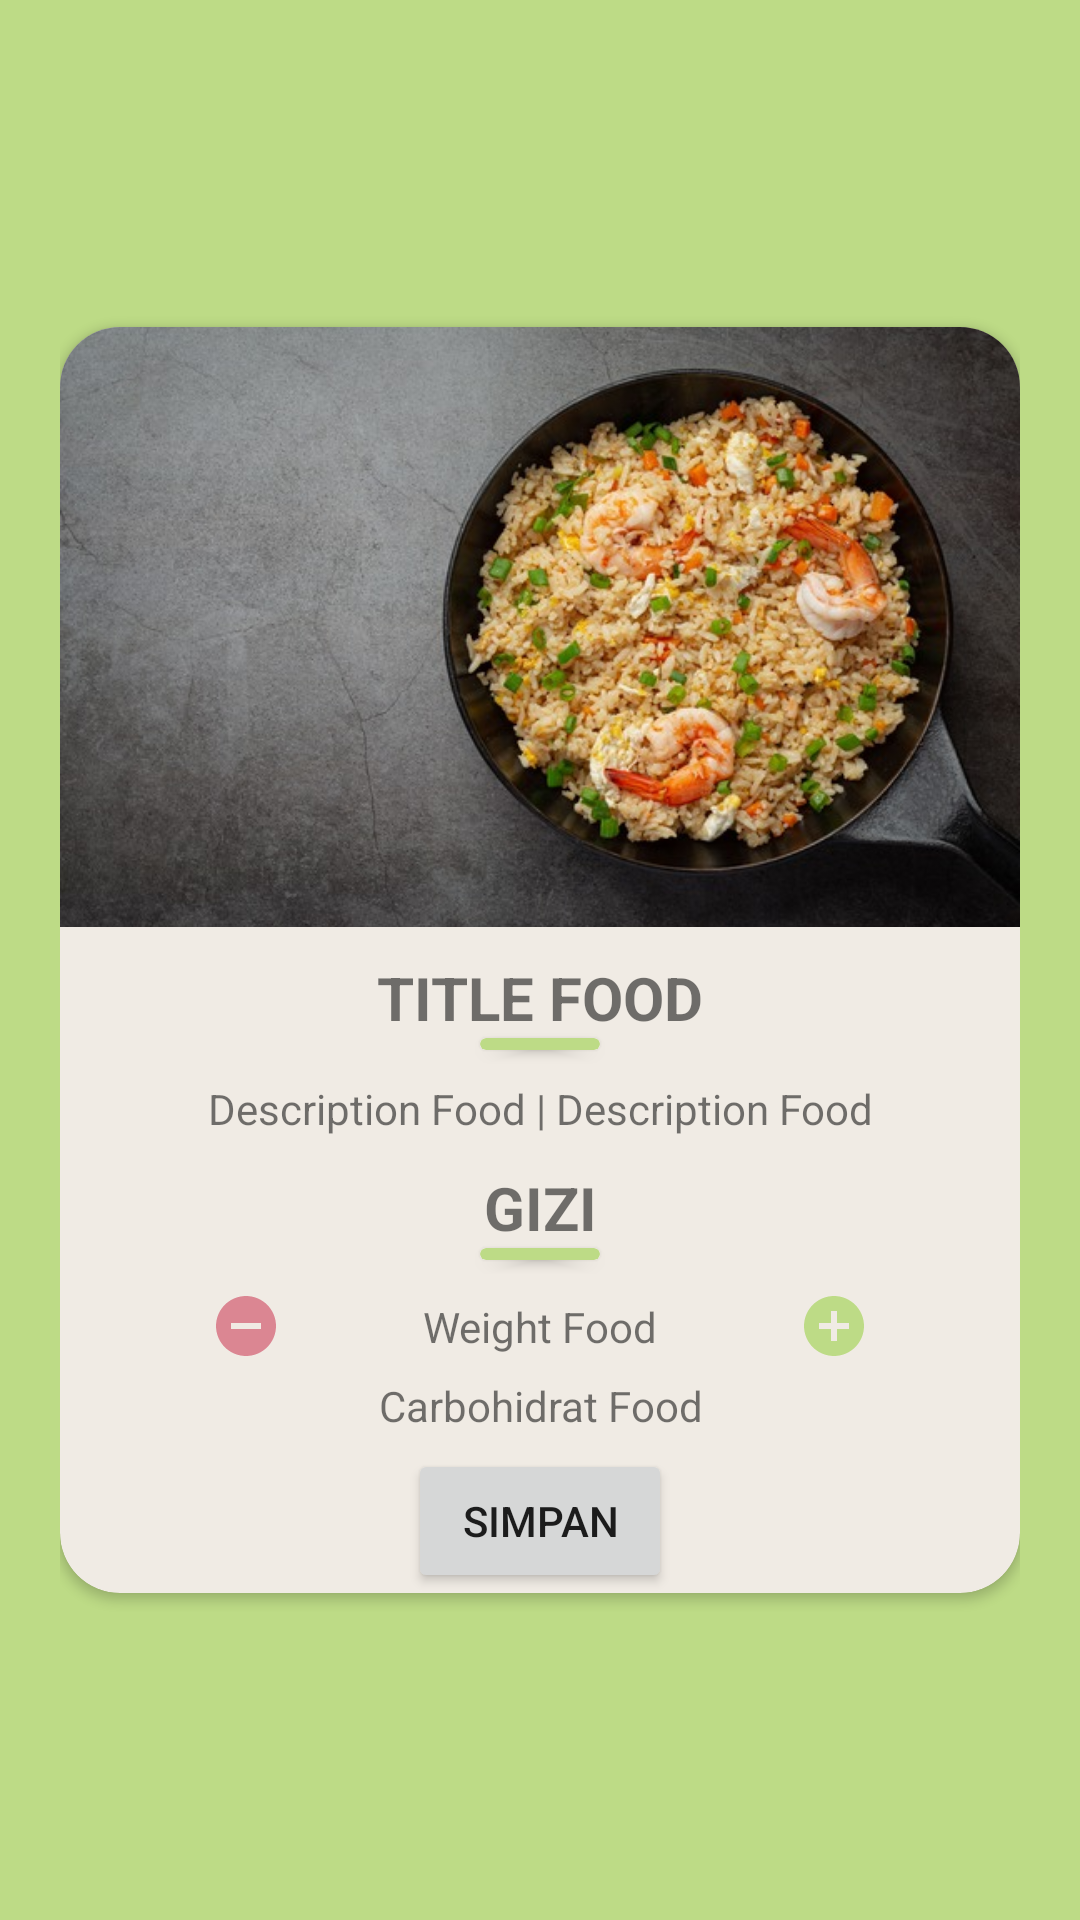

Named icons in this screenshot (1080w x 1920h) and their bounding boxes, (x1, y1, x2, y2):
minus: (216, 1296, 276, 1356)
plus: (804, 1296, 864, 1356)
